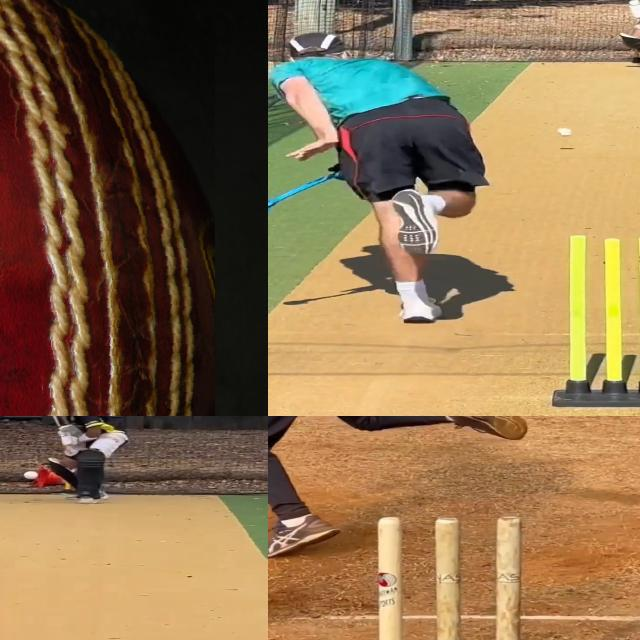Cricket ball: (0, 0, 215, 416), (555, 126, 574, 137), (23, 470, 39, 480)
Stumps: (364, 515, 526, 640), (553, 236, 640, 406)
